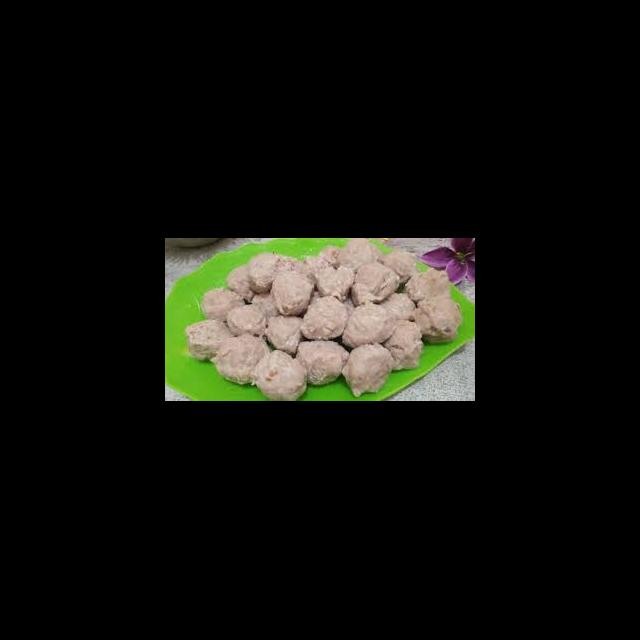food_waste: (246, 286, 400, 371)
